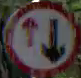Two way: (4, 3, 77, 73)
